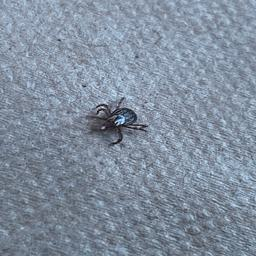Dermacentor variabilis: (92, 101, 150, 147)
